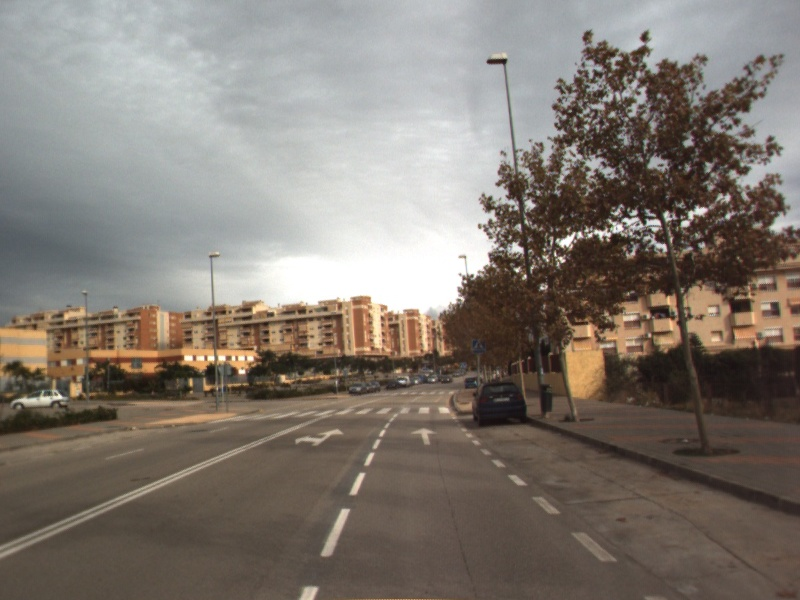STRAIGHT: (409, 425, 441, 447)
STRAIGHT_LEFT: (293, 426, 346, 448)
